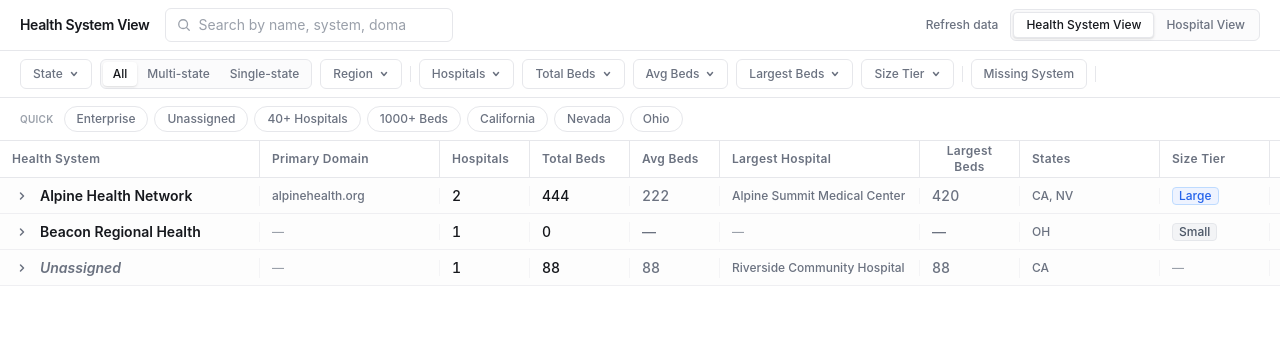
Test: HealthSystemView container › toggles to Hospital View and back without page navigation
The width and height of the screenshot is (1280, 339).
Expected: the table named "Health System View" is shown, [0,141,1279,286]
// Switch to Hospital View
Click the button "Hospital View": (1206, 25) [1154,13,1257,37]
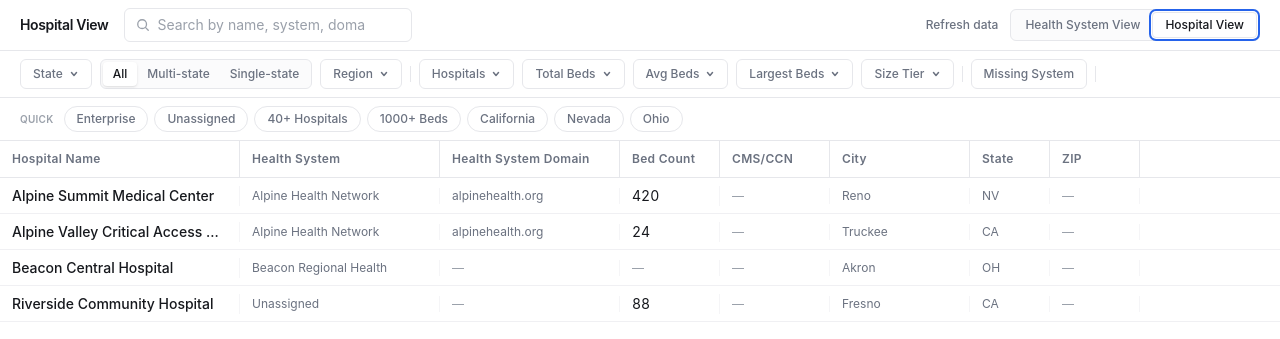
Expected: the table named "Hospital View" is shown, [0,141,1279,322]
// Switch back to Health System View
Click the button "Health System View": (1083, 25) [1013,13,1152,37]
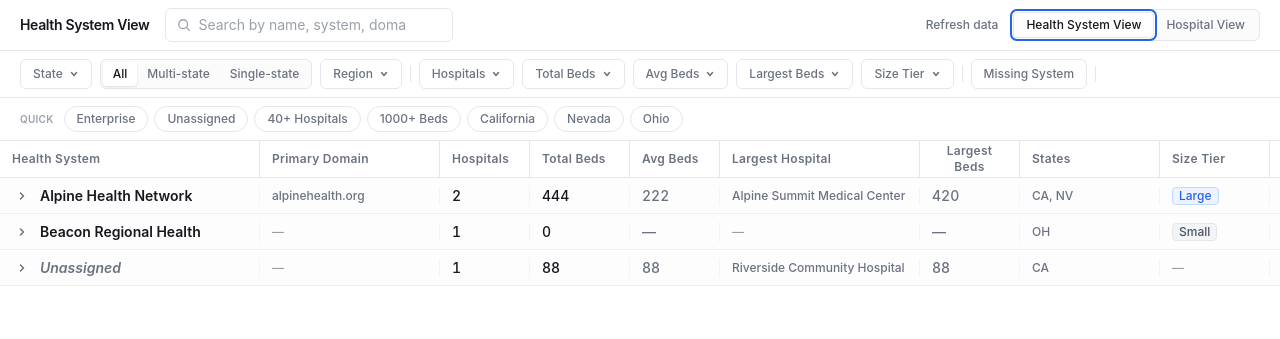
Expected: the table named "Health System View" is shown, [0,141,1279,286]
